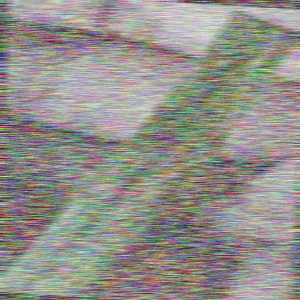Brown_Spot: (111, 167, 161, 231), (113, 125, 159, 169), (235, 40, 274, 90), (213, 87, 251, 136), (149, 132, 188, 165), (181, 133, 205, 173), (135, 198, 162, 219)
